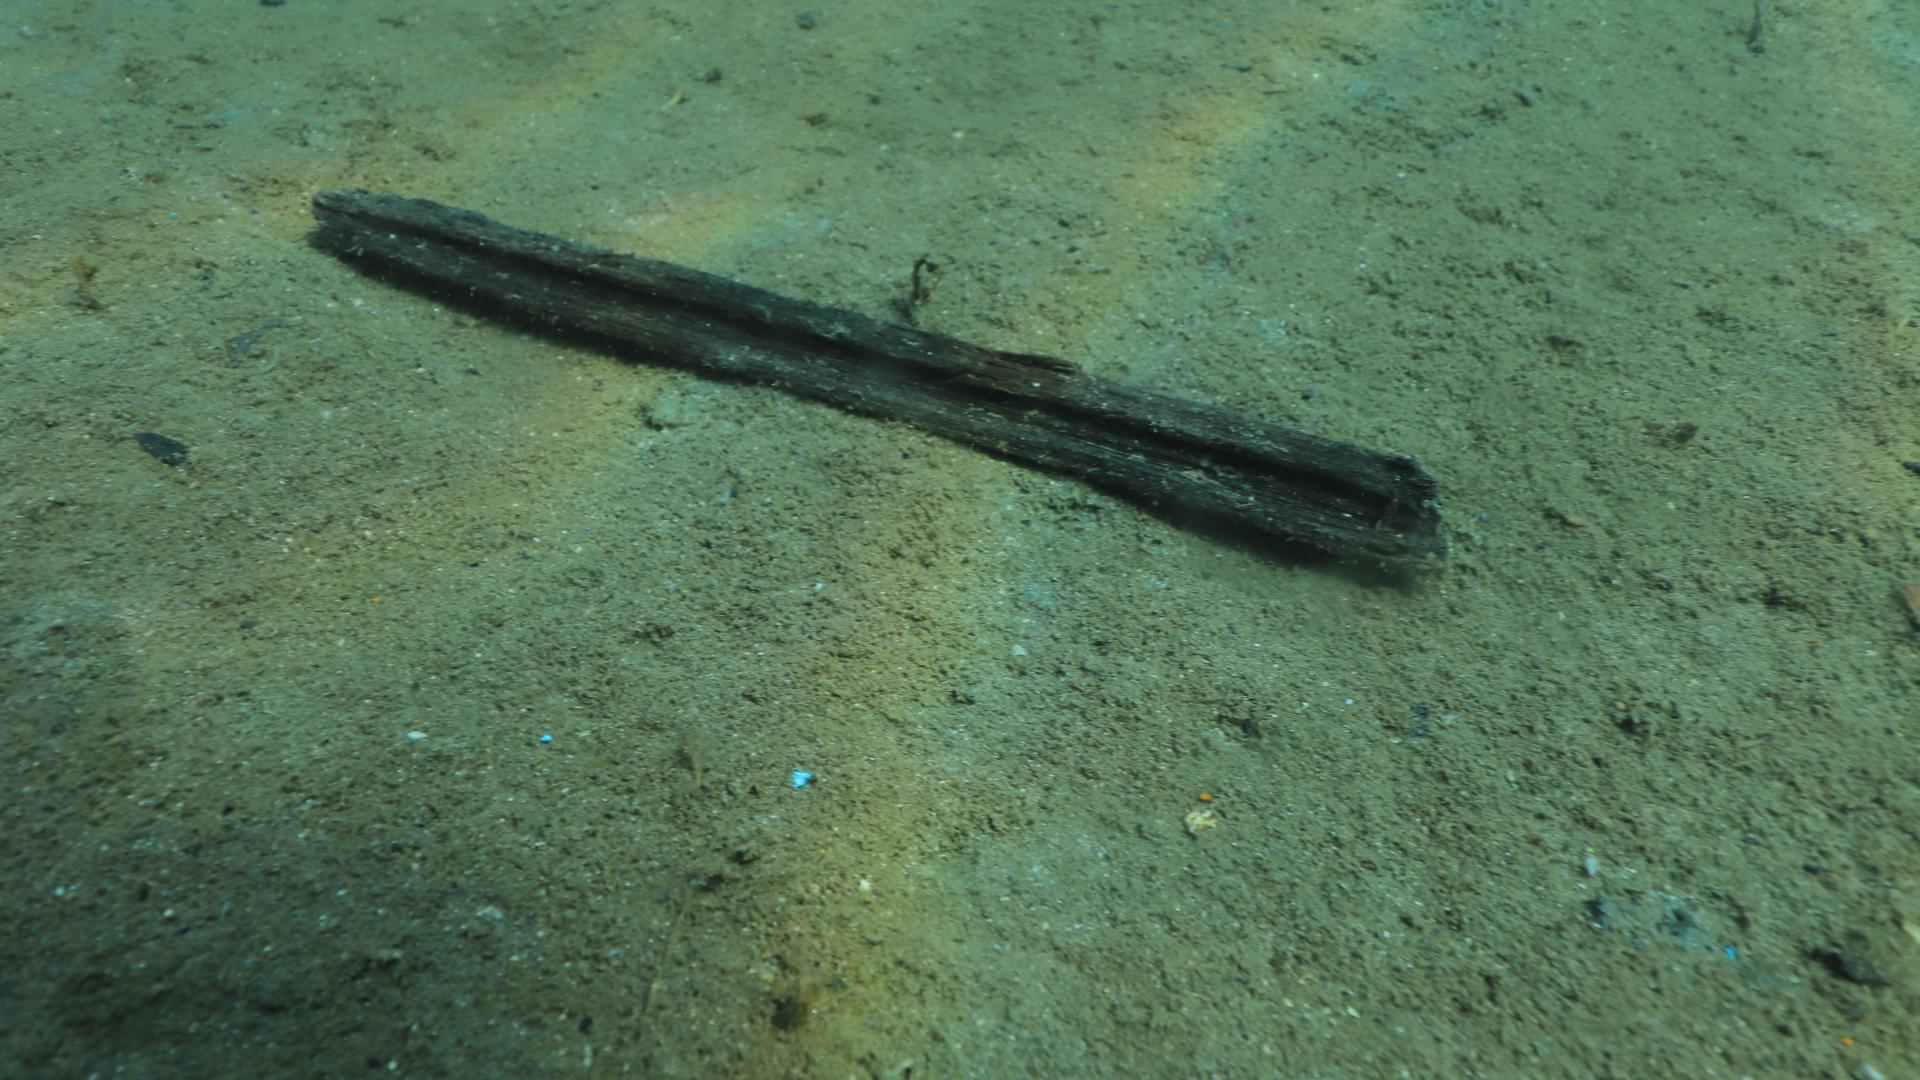wood: (301, 185, 1452, 582)
